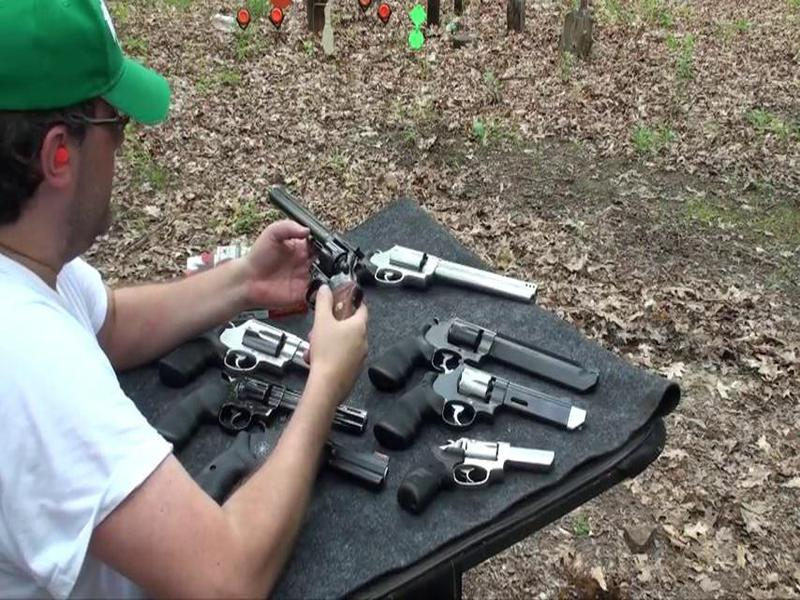Revolver: (267, 174, 365, 329)
